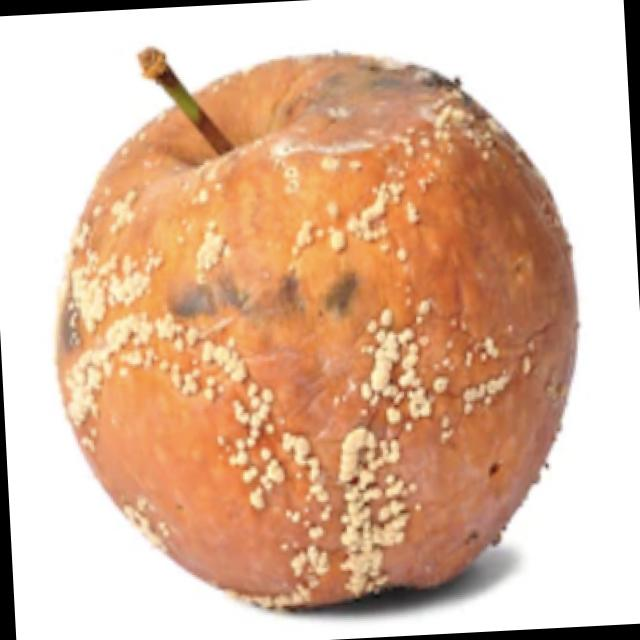rotten_apple: (44, 34, 594, 626)
